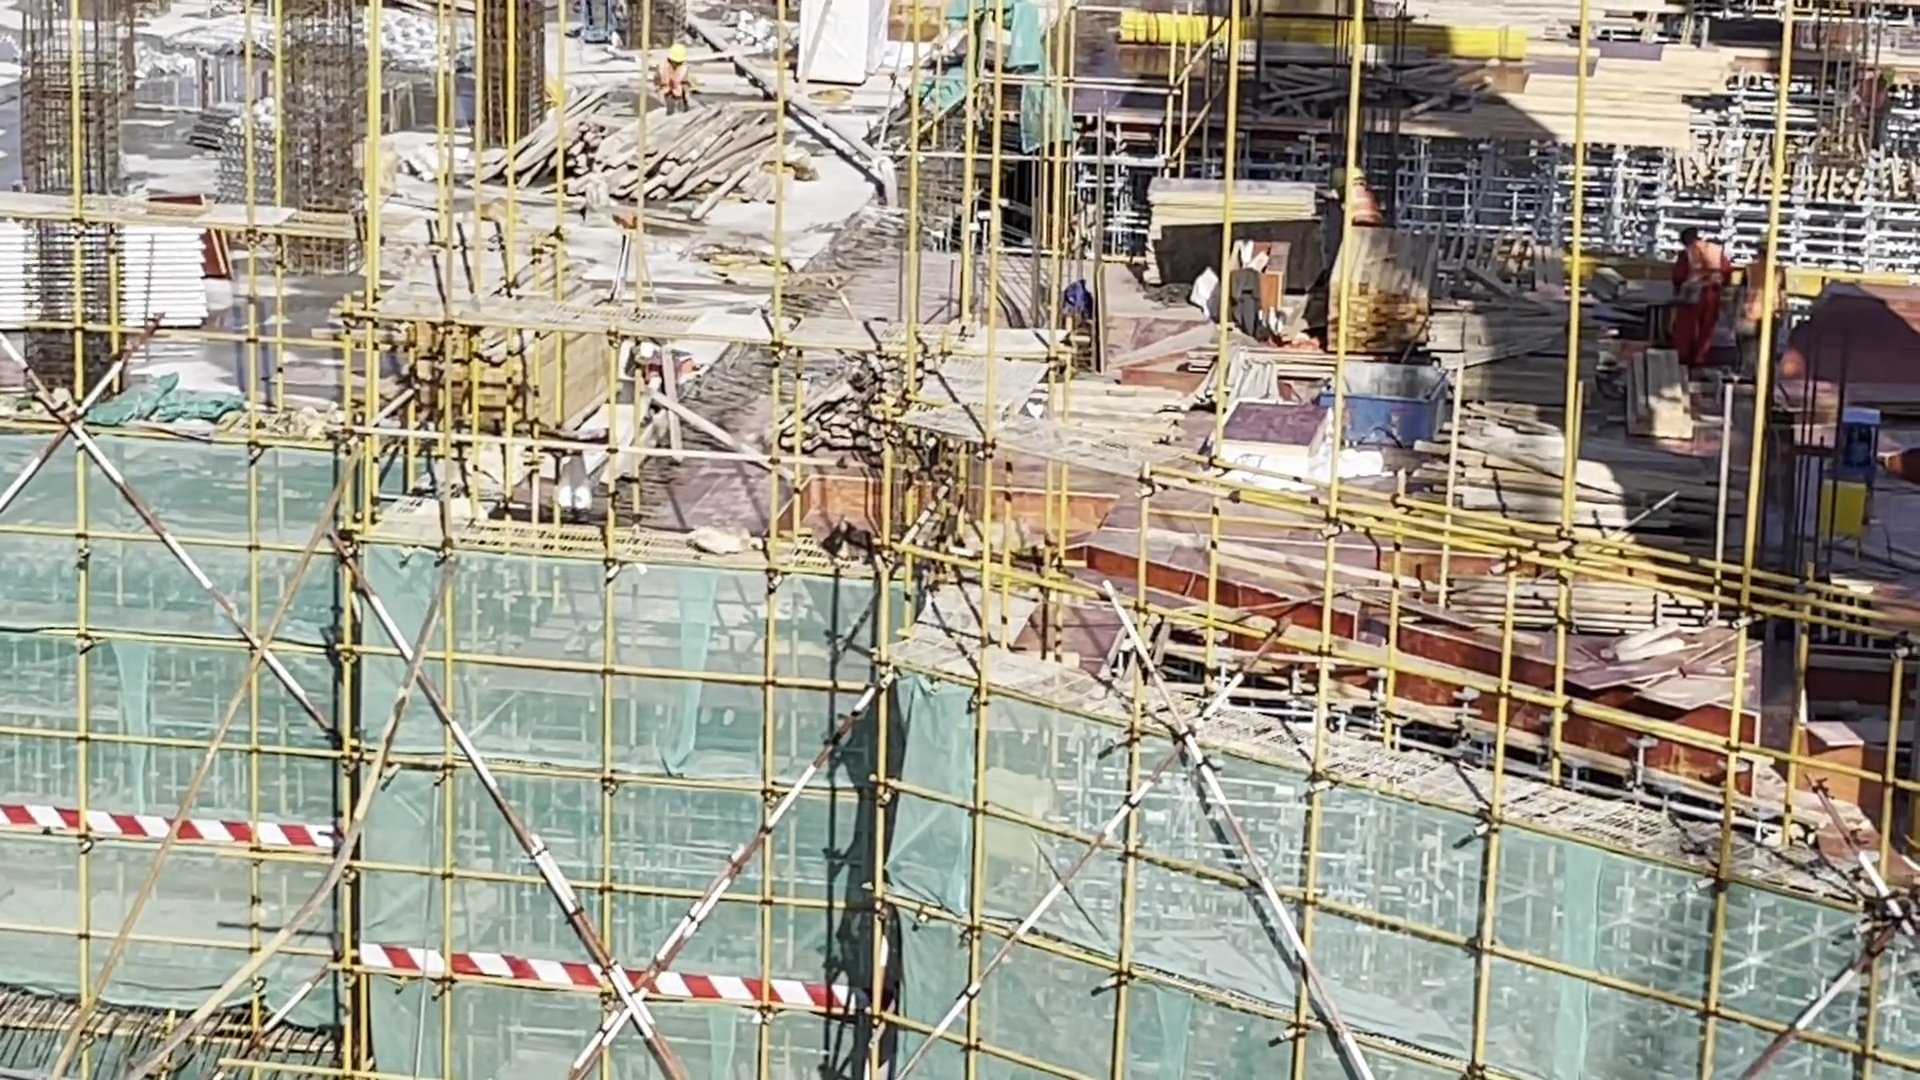board: (1581, 620, 1743, 719)
ebox: (1807, 474, 1870, 542)
helmet: (669, 44, 694, 69), (630, 342, 658, 360), (1346, 167, 1366, 180)
hopper: (1323, 356, 1456, 453)
person: (1740, 232, 1797, 376), (1673, 229, 1724, 362), (615, 330, 706, 399), (645, 35, 701, 115), (1331, 163, 1384, 228)
scaffold: (1, 224, 210, 344), (207, 98, 289, 207)
vest: (1685, 246, 1724, 318), (1747, 263, 1780, 325), (1344, 182, 1380, 222)
wood: (393, 249, 608, 441), (521, 100, 738, 226), (1419, 392, 1593, 511), (1445, 557, 1682, 638), (1325, 240, 1441, 353)
